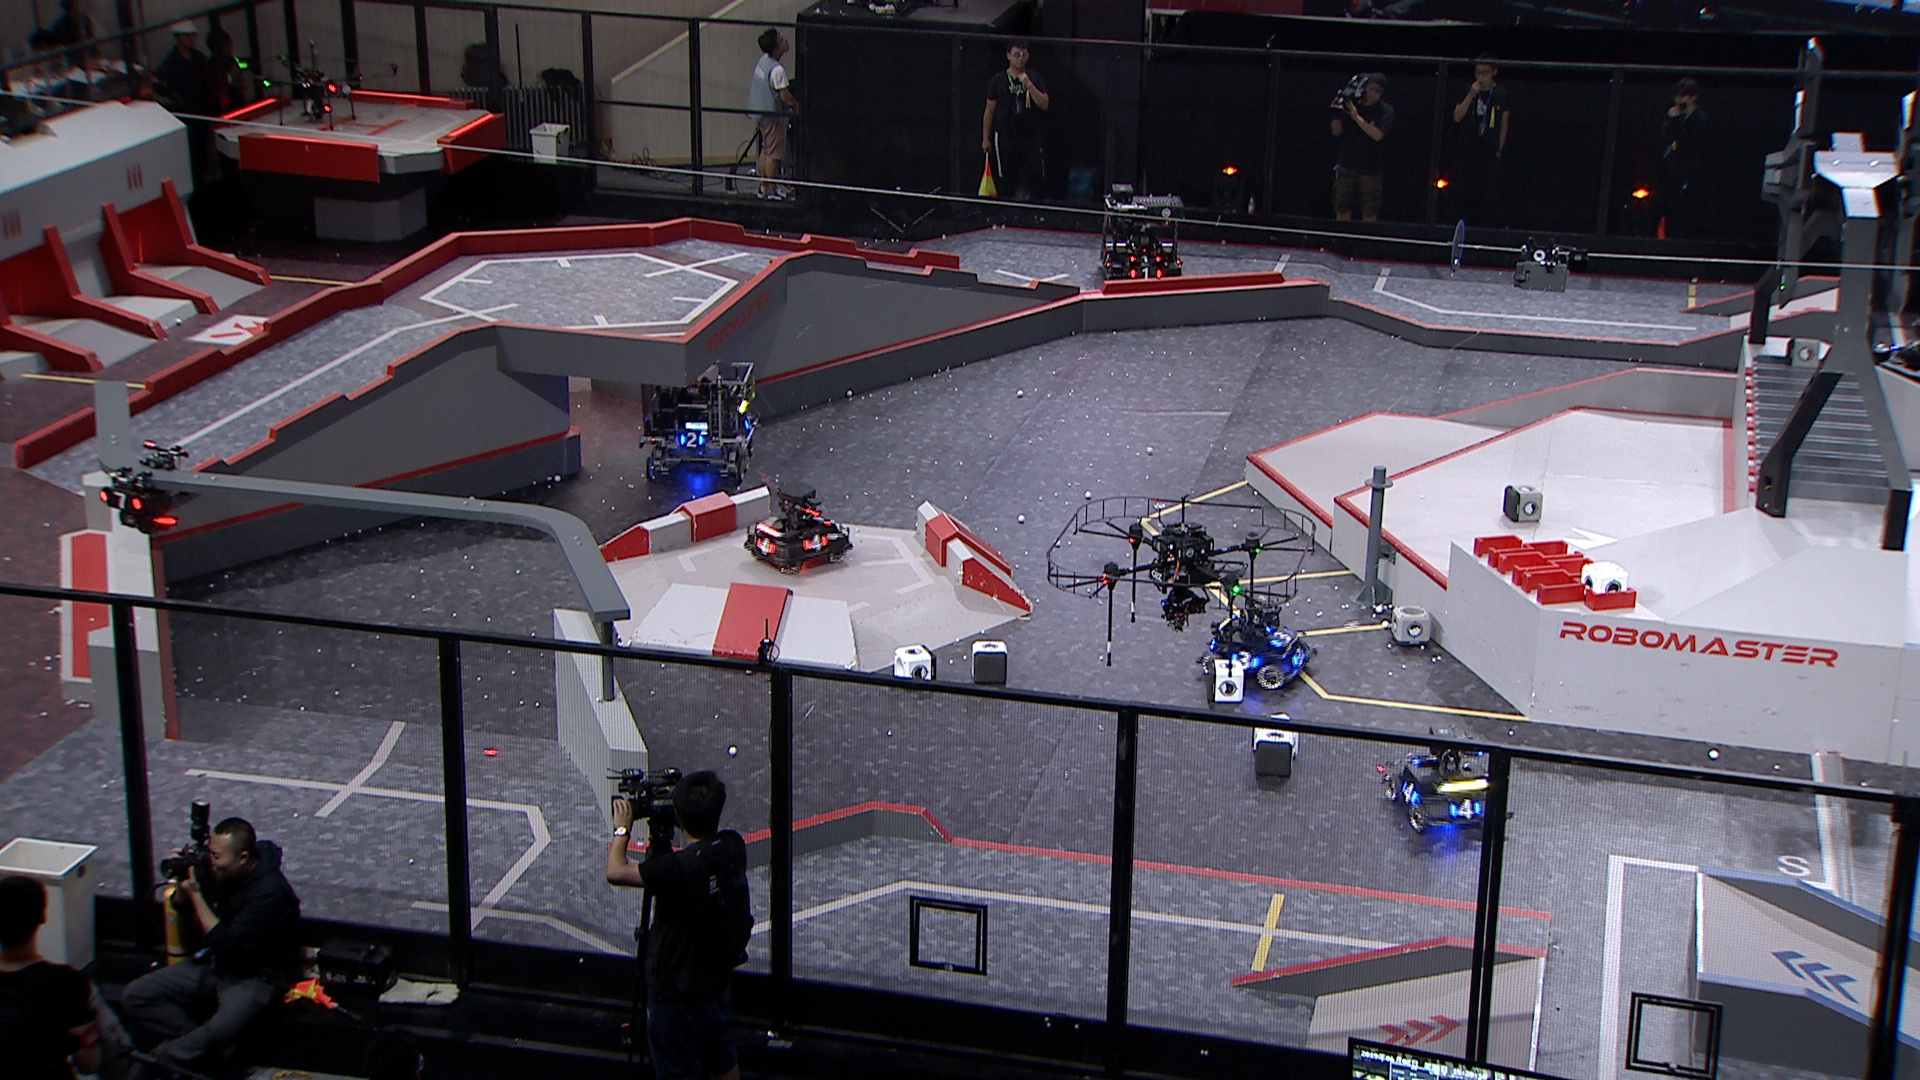armor: (96, 487, 148, 513), (1447, 796, 1484, 822), (1230, 650, 1259, 670), (1269, 628, 1292, 651), (802, 533, 829, 553), (1127, 252, 1163, 266), (1400, 778, 1419, 806), (1127, 266, 1164, 280), (756, 535, 778, 556), (1291, 646, 1309, 670), (679, 433, 704, 450), (740, 415, 757, 433), (1100, 251, 1114, 270)
car: (637, 356, 764, 488), (1377, 723, 1515, 836), (1195, 597, 1319, 688), (741, 480, 852, 575), (1095, 193, 1185, 287)
watcher: (94, 440, 190, 535)
